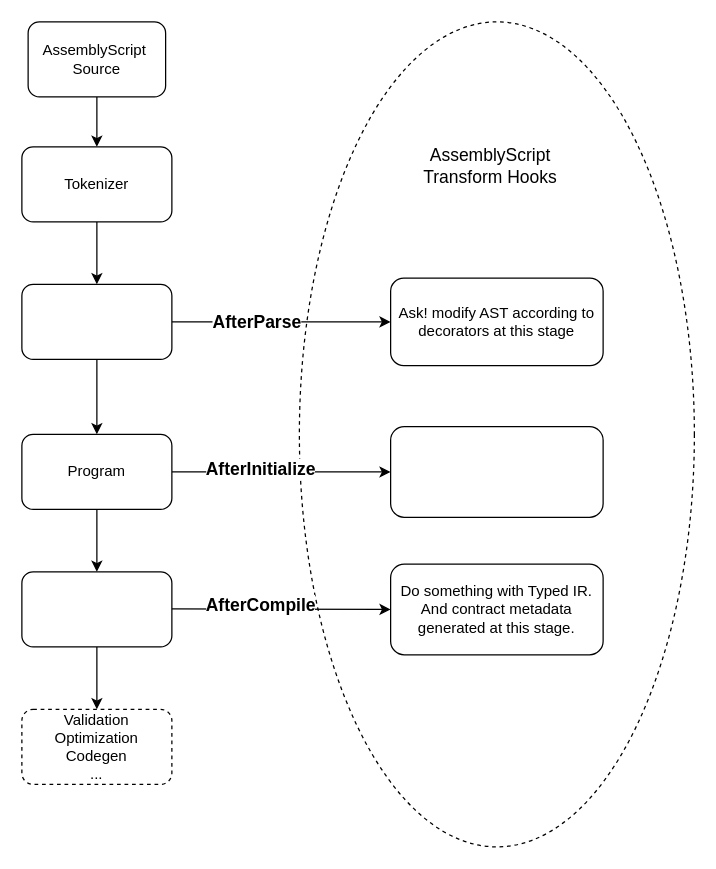
Some shapes in this 716 by 869 pixel diagram are drawn without their labels. The shapes that lost their labels are listed below. From the top down, each one's box as (x1, y1, x2, y2) in pixels, then its label:
(21, 283, 172, 359): Parser
(389, 425, 603, 517): Types are known at this stage. Ask! do nothing at this stage.
(21, 571, 172, 647): Module
